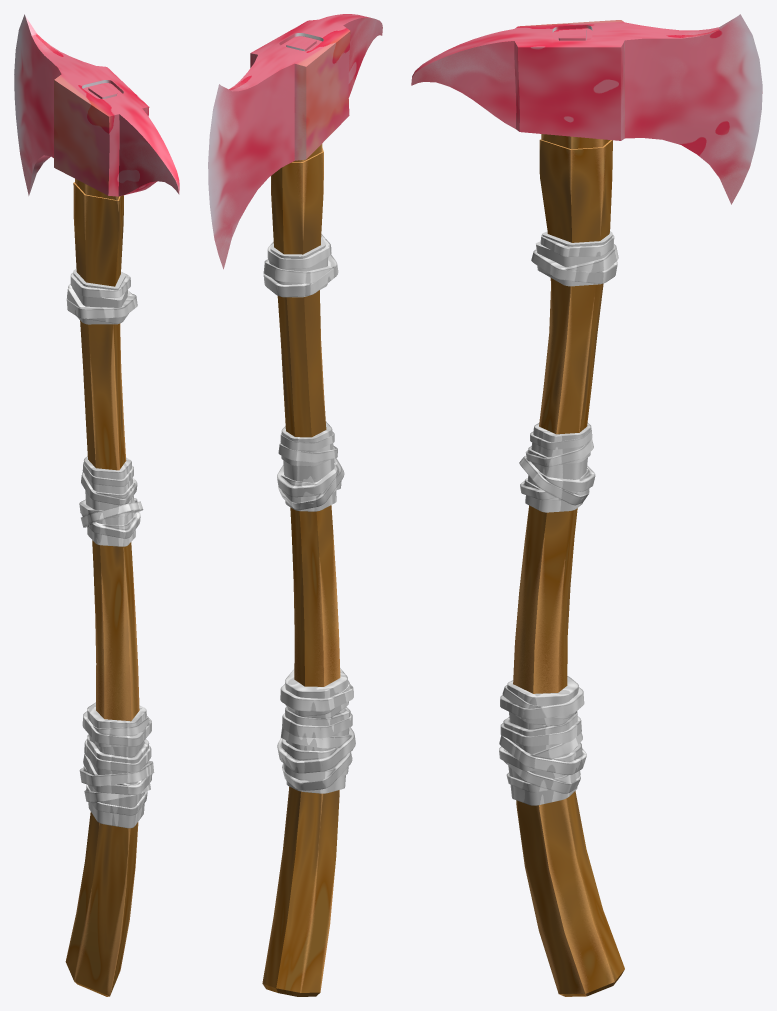
Rendered from axe.glb.
3 views of the same model, side by side, from view 1: azimuth 30°, elevation 25°; view 2: azimuth 150°, elevation 25°; view 3: azimuth 270°, elevation 25° (orthographic). The views are drawn at different scales.
Parts seen in each view (by area): view 1: Handle, Blade, Straps, BaseStrap; view 2: Handle, Blade, Straps, BaseStrap; view 3: Handle, Blade, Straps, BaseStrap.
Part boxes in pixels (left/top/right/bottom): Handle: left=65, top=179, right=139, bottom=996; Blade: left=14, top=14, right=179, bottom=196; Straps: left=66, top=272, right=154, bottom=815; BaseStrap: left=72, top=269, right=149, bottom=828; Handle: left=262, top=144, right=340, bottom=996; Blade: left=208, top=14, right=382, bottom=269; Straps: left=263, top=234, right=355, bottom=790; BaseStrap: left=269, top=236, right=350, bottom=793; Handle: left=513, top=134, right=624, bottom=996; Blade: left=411, top=14, right=762, bottom=204; Straps: left=499, top=234, right=618, bottom=793; BaseStrap: left=503, top=231, right=613, bottom=805.
Size of the model in its own units: 0.3206 by 4.67 by 1.51.
Materials: 5 (4 with a texture image).
